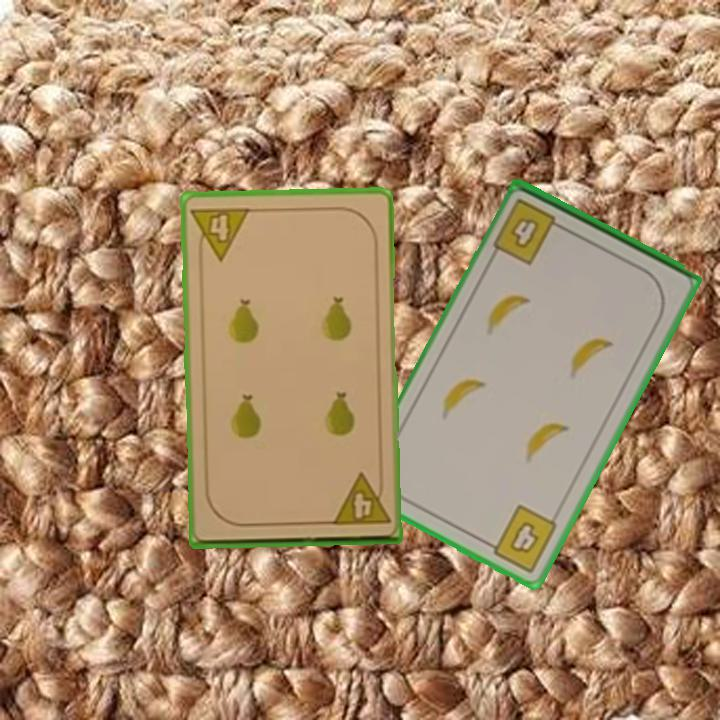4b: (481, 501, 561, 576), (489, 195, 570, 268)
4p: (188, 203, 253, 264), (328, 470, 393, 528)
